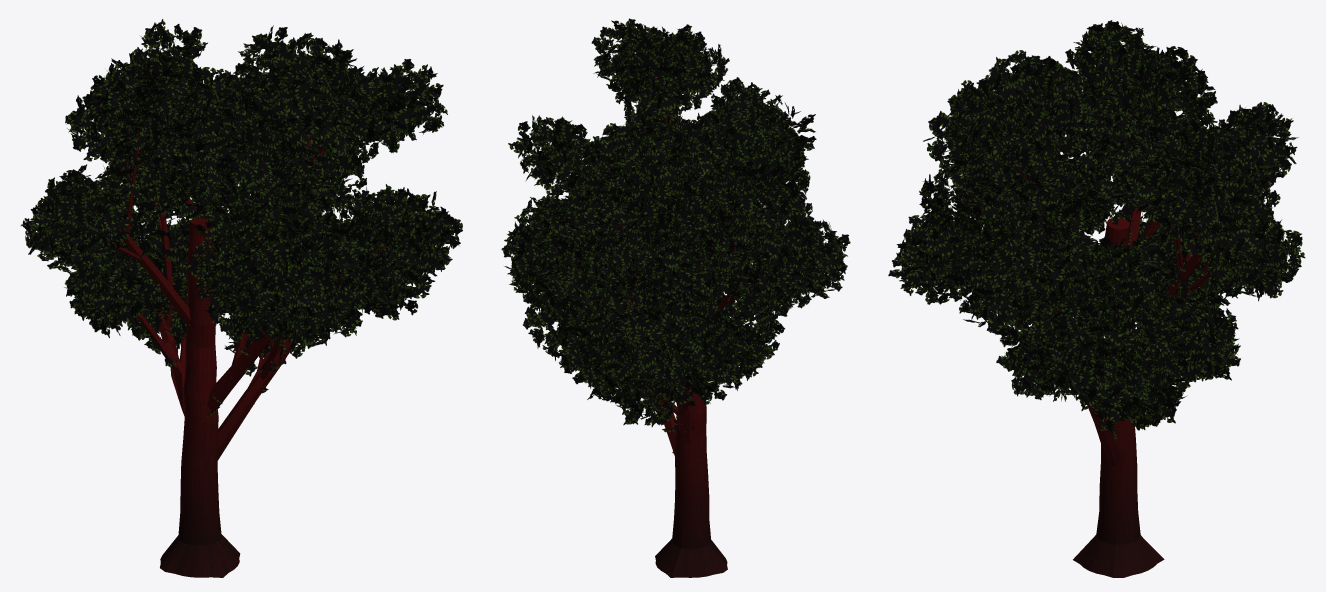
File: broadleaf_giant_v02.glb
The picture shows the model from 3 angles, left to right: view 1: azimuth 30°, elevation 25°; view 2: azimuth 150°, elevation 25°; view 3: azimuth 270°, elevation 25°; orthographic projection. The views are drawn at different scales.
Visible parts, largest first — view 1: broadleaf_giant_v02; view 2: broadleaf_giant_v02; view 3: broadleaf_giant_v02.
Part boxes in pixels (bbox=[...]): broadleaf_giant_v02: bbox=[20, 19, 462, 577]; broadleaf_giant_v02: bbox=[501, 18, 850, 577]; broadleaf_giant_v02: bbox=[888, 20, 1305, 577].
Size of the model in its own units: 30.79 by 39.1 by 28.83.
2 materials, 2 textured.
